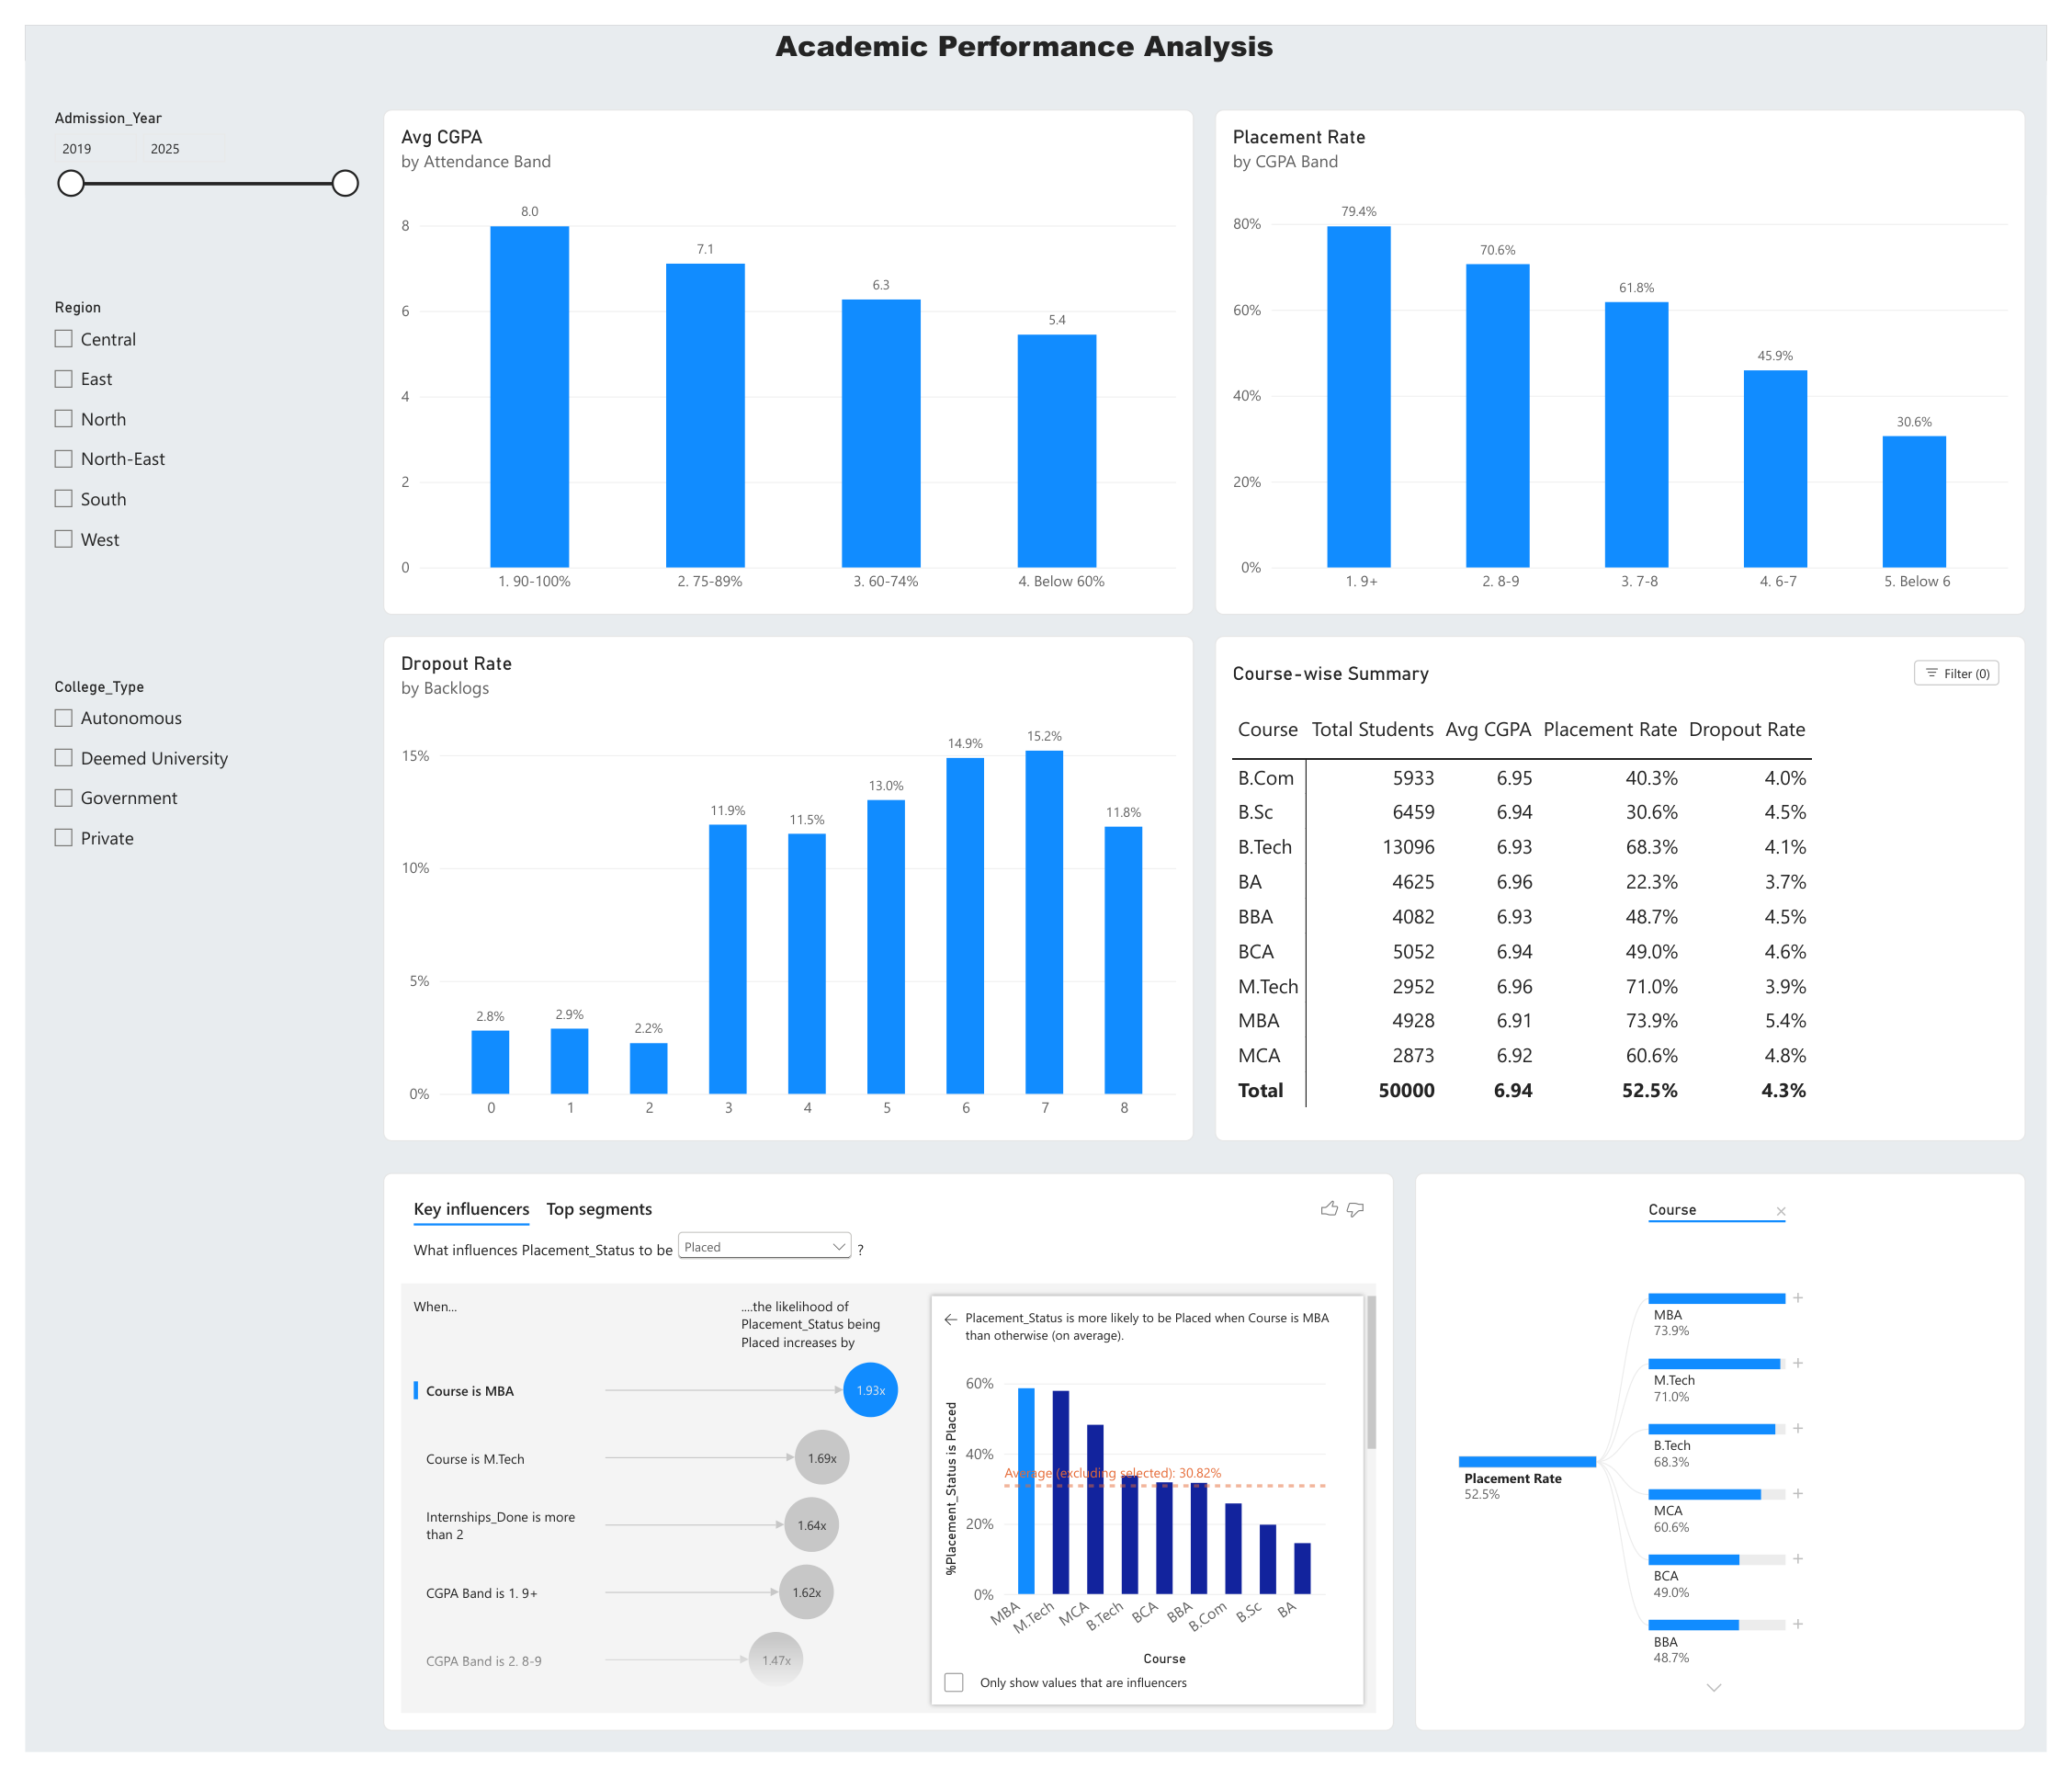

The dashboard page shown, as its layout file describes it:
{"tool":"powerbi","page":{"name":"Academic Performance","canvas":[1920,1640],"ordinal":1},"visuals":[{"type":"textbox","box":[451.7,0,968.3,78.3],"z":0},{"type":"clusteredColumnChart","fields":{"Category":["Students.Attendance Band"],"Y":["Students.Avg CGPA"]},"box":[340,80,770,480],"z":1},{"type":"clusteredColumnChart","fields":{"Category":["Students.CGPA Band"],"Y":["Students.Placement Rate"]},"box":[1130,80,770,480],"z":2},{"type":"clusteredColumnChart","fields":{"Category":["Students.Backlogs"],"Y":["Students.Dropout Rate"]},"box":[340,580,770,480],"z":3},{"type":"pivotTable","title":"Course-wise Summary","fields":{"Rows":["Students.Course"],"Values":["Students.Total Students","Students.Avg CGPA","Students.Placement Rate","Students.Dropout Rate"]},"box":[1130,580,770,480],"z":4},{"type":"slicer","fields":{"Values":["Students.Admission_Year"]},"box":[20,80,300,160],"z":5},{"type":"slicer","fields":{"Values":["Students.Region"]},"box":[20,260,300,340],"z":6},{"type":"slicer","fields":{"Values":["Students.College_Type"]},"box":[20,620,300,300],"z":7},{"type":"keyDriversVisual","fields":{"ExplainBy":["Students.CGPA Band","Students.Attendance Band","Students.College_Tier","Students.Internships_Done","Students.Course","Students.Area_Type","Students.Gender"],"Target":["Students.Placement_Status"]},"box":[340,1090,960,530],"z":8},{"type":"decompositionTreeVisual","fields":{"Analyze":["Students.Placement Rate"],"ExplainBy":["Students.Course","Students.College_Tier","Students.CGPA Band","Students.Gender"]},"box":[1320,1090,580,530],"z":9}]}

Visuals, with their boxes in screenshot pixels (x1, y1, x2, y2), scaled from the page's 1920x1640 canvas onto the 2072x1778 screenshot:
textbox: region(488, 0, 1533, 85)
clusteredColumnChart - Students.Attendance Band x Students.Avg CGPA: region(367, 86, 1198, 607)
clusteredColumnChart - Students.CGPA Band x Students.Placement Rate: region(1219, 86, 2051, 607)
clusteredColumnChart - Students.Backlogs x Students.Dropout Rate: region(367, 629, 1198, 1149)
"Course-wise Summary" pivotTable: region(1219, 629, 2051, 1149)
slicer - Students.Admission_Year: region(21, 86, 345, 260)
slicer - Students.Region: region(21, 282, 345, 651)
slicer - Students.College_Type: region(21, 673, 345, 997)
keyDriversVisual - Students.CGPA Band x Students.Attendance Band: region(367, 1182, 1403, 1756)
decompositionTreeVisual - Students.Placement Rate x Students.Course: region(1424, 1182, 2051, 1756)
